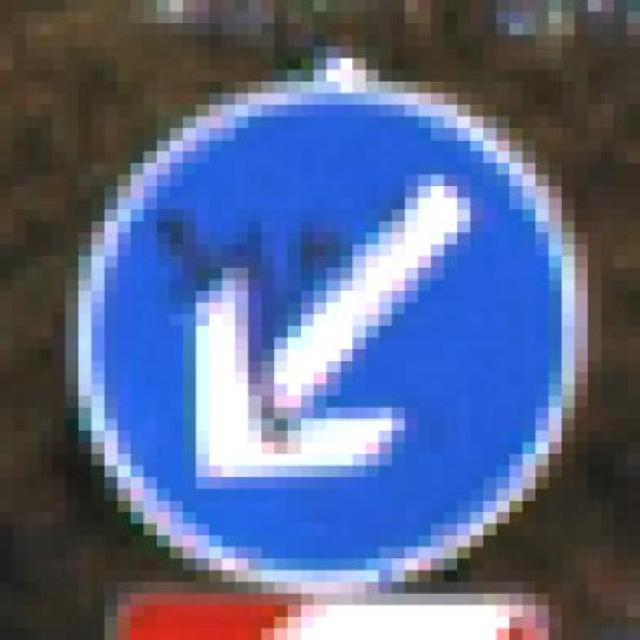Keep-Left: (52, 69, 588, 594)
